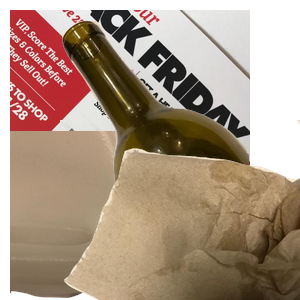glass: (60, 18, 300, 198)
paper: (10, 10, 250, 190)
plastic: (10, 131, 196, 300)
trash: (60, 120, 300, 300)
